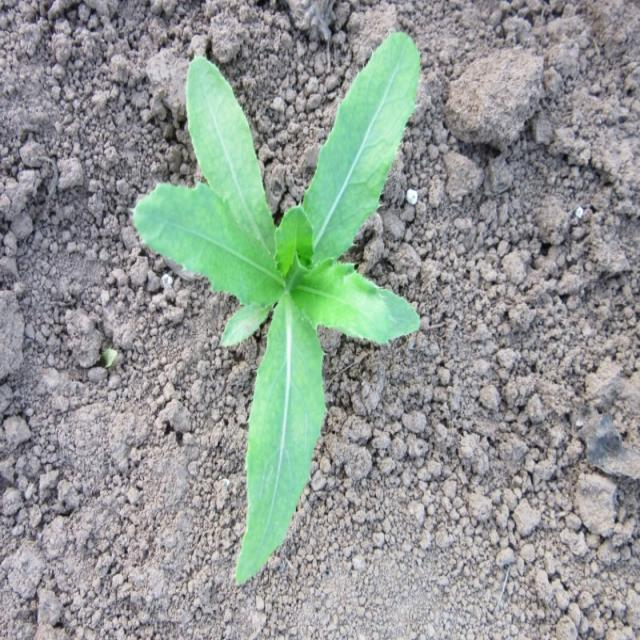cs: (131, 29, 423, 596)
